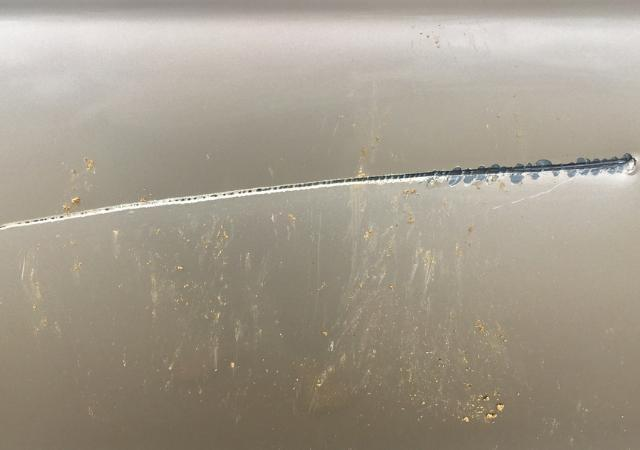Bumper: (0, 93, 640, 450)
